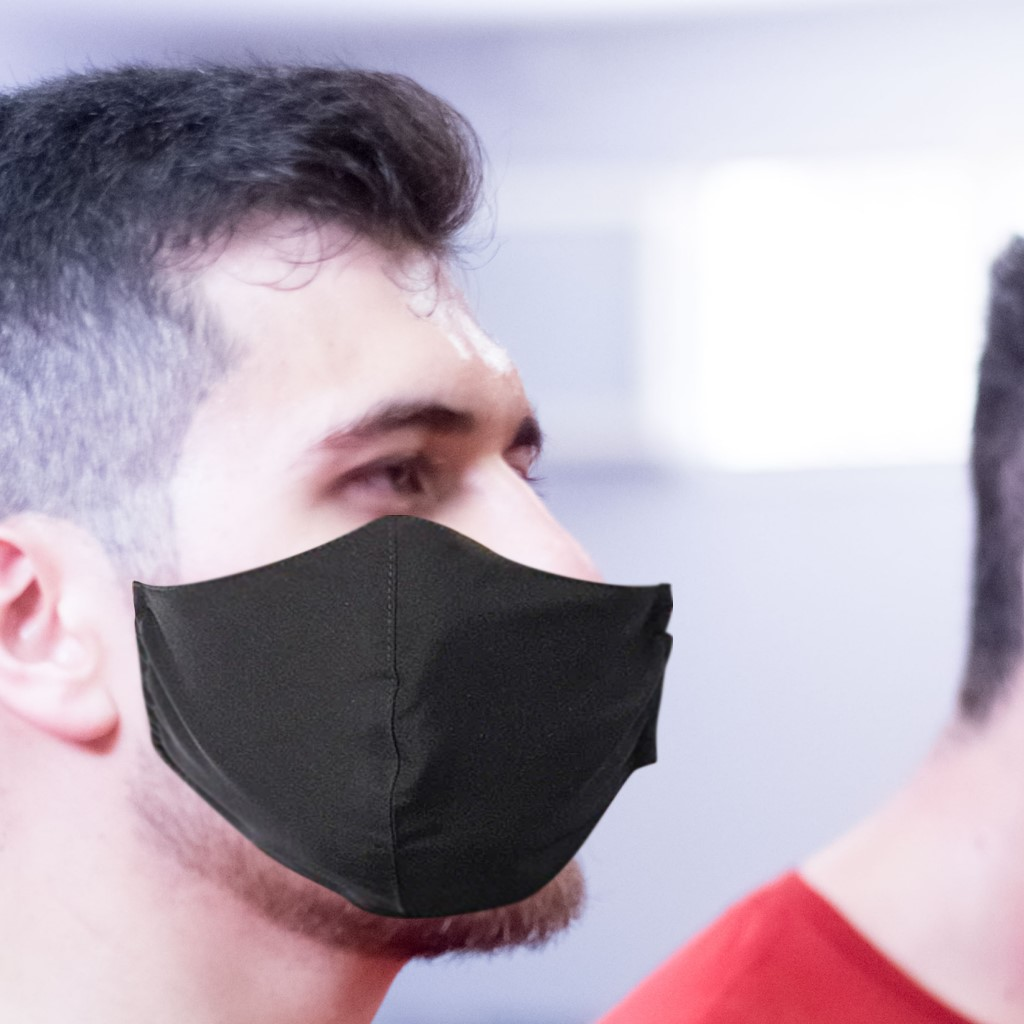con_mascara: (82, 153, 629, 970)
